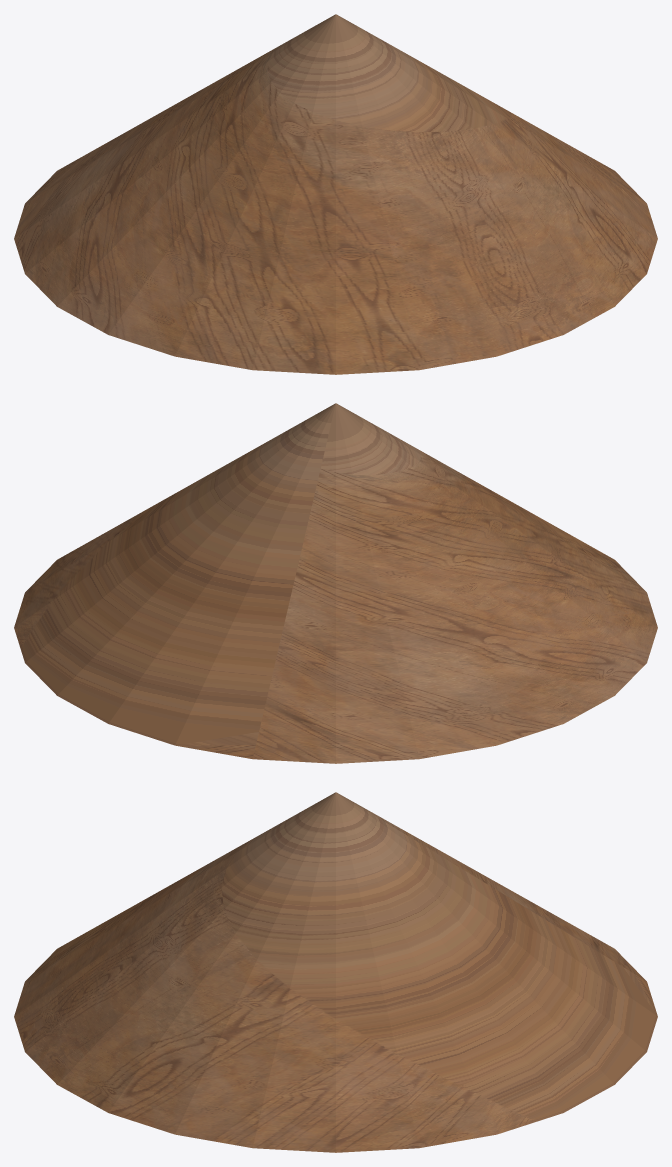
3 renders of one model, top to bottom at view 1: azimuth 30°, elevation 25°; view 2: azimuth 150°, elevation 25°; view 3: azimuth 270°, elevation 25°, orthographic.
Parts seen in each view (by area): view 1: Cone001; view 2: Cone001; view 3: Cone001.
Part boxes in pixels (x1,y1,x2,y2): Cone001: (14,14,657,374); Cone001: (14,403,657,763); Cone001: (14,792,657,1152).
Size of the model in its own units: 87.88 by 33.83 by 87.88.
1 material, 1 textured.
